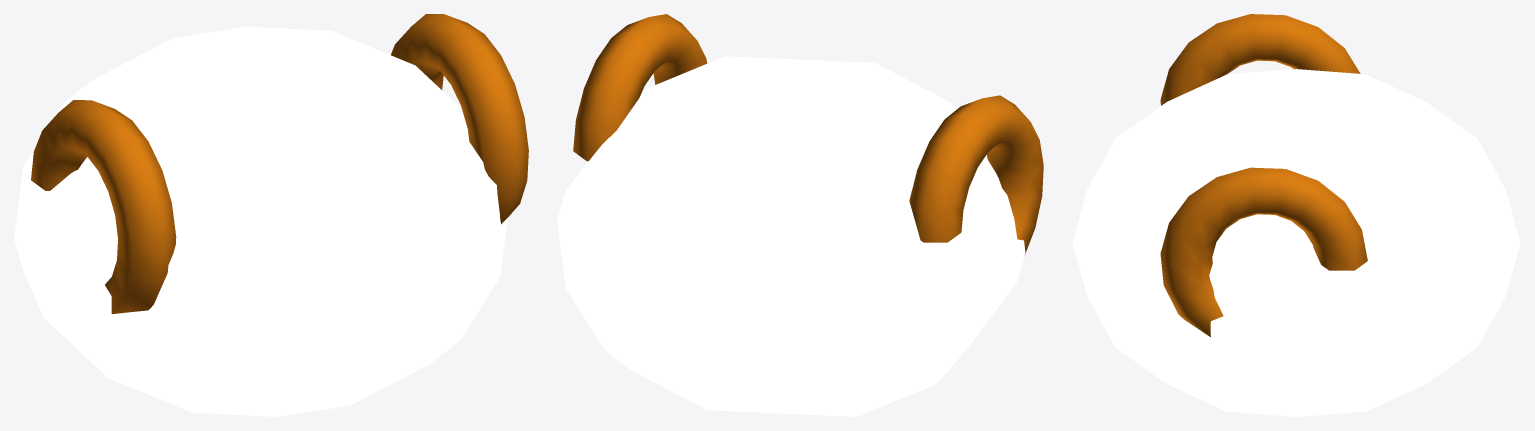
File: hat0005.glb
3 views of the same model, side by side, from view 1: azimuth 30°, elevation 25°; view 2: azimuth 150°, elevation 25°; view 3: azimuth 270°, elevation 25° (orthographic). The views are drawn at different scales.
Visible parts, largest first — view 1: hat0005_export; view 2: hat0005_export; view 3: hat0005_export.
Boxes of the visible parts, x1,y1,x2,y2 form: hat0005_export: (14, 14, 528, 416); hat0005_export: (557, 14, 1043, 416); hat0005_export: (1072, 14, 1520, 416).
Size of the model in its own units: 0.738 by 0.5494 by 0.738.
